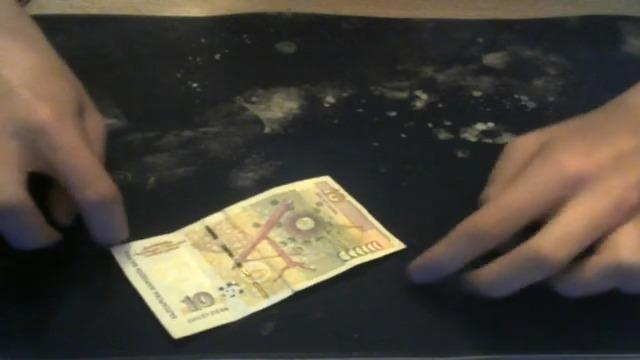10leva: (110, 176, 406, 340)
